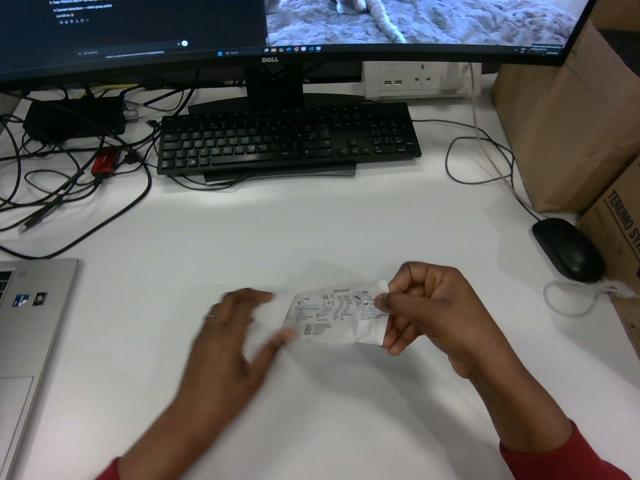syringe: (283, 281, 387, 344)
